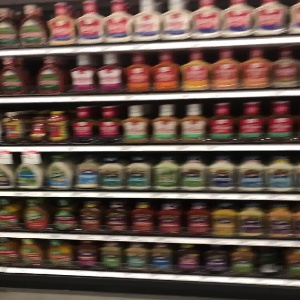void: (257, 248, 285, 279)
